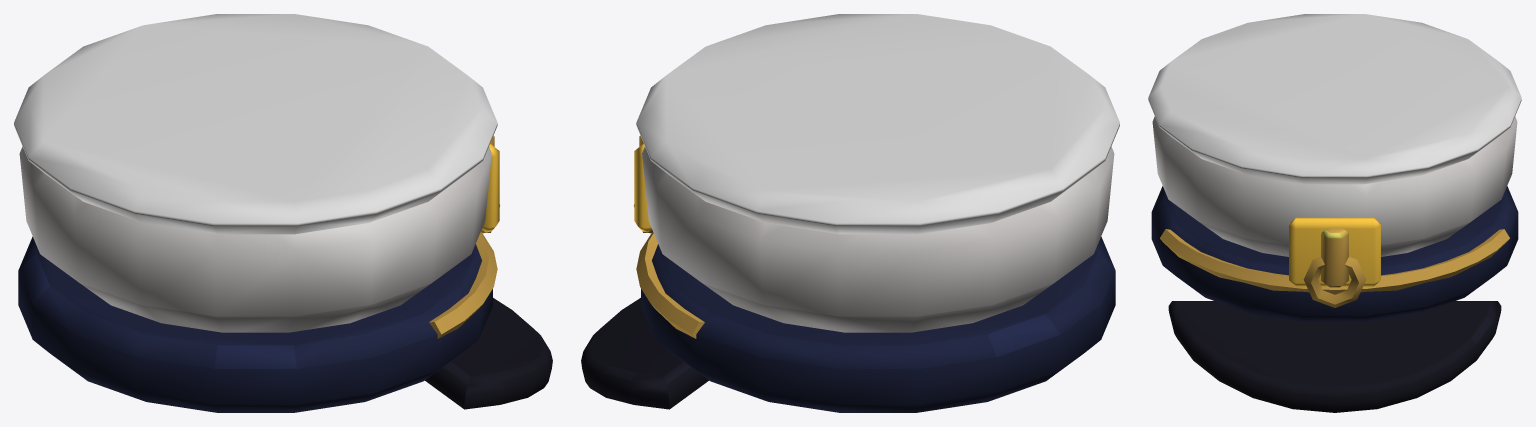
Rendered from SM_Acc_CaptainHat.fbx.
3 views of the same model, side by side, from view 1: azimuth 30°, elevation 25°; view 2: azimuth 150°, elevation 25°; view 3: azimuth 270°, elevation 25° (orthographic). The views are drawn at different scales.
Visible parts, largest first — view 1: SM_Acc_CaptainHat; view 2: SM_Acc_CaptainHat; view 3: SM_Acc_CaptainHat.
Part boxes in pixels (bbox=[...]): SM_Acc_CaptainHat: bbox=[14, 14, 552, 412]; SM_Acc_CaptainHat: bbox=[581, 14, 1119, 412]; SM_Acc_CaptainHat: bbox=[1148, 14, 1521, 412].
Bounding box in the file's own units: 36.71 × 22.06 × 32.64.
